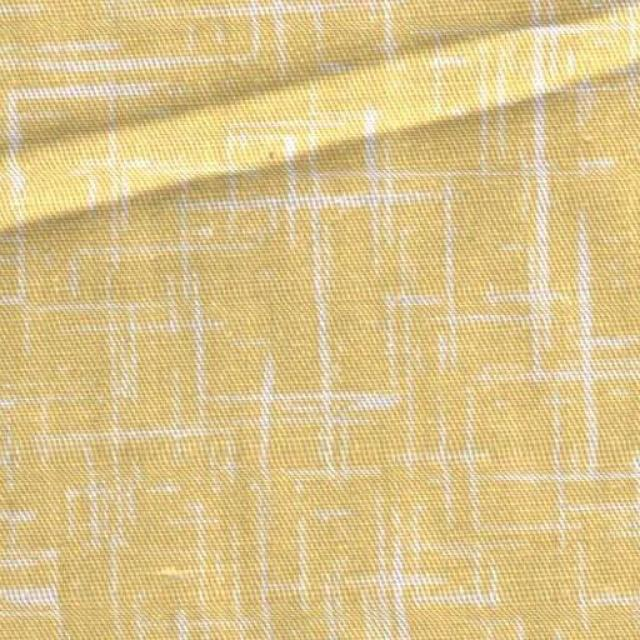broken_yarn: (0, 58, 639, 242), (0, 2, 639, 166)
